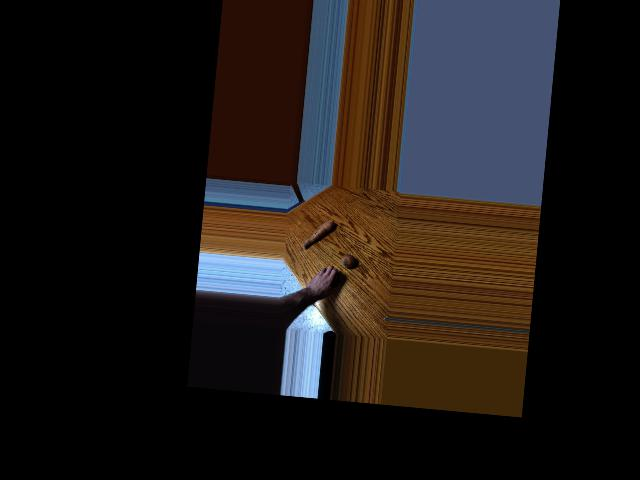onion: (323, 271, 339, 289)
